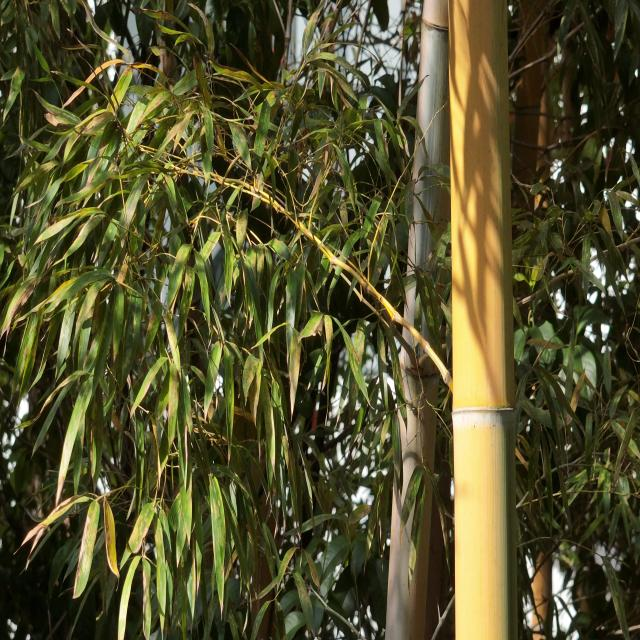Bamboo-shoots: (448, 0, 516, 640)
